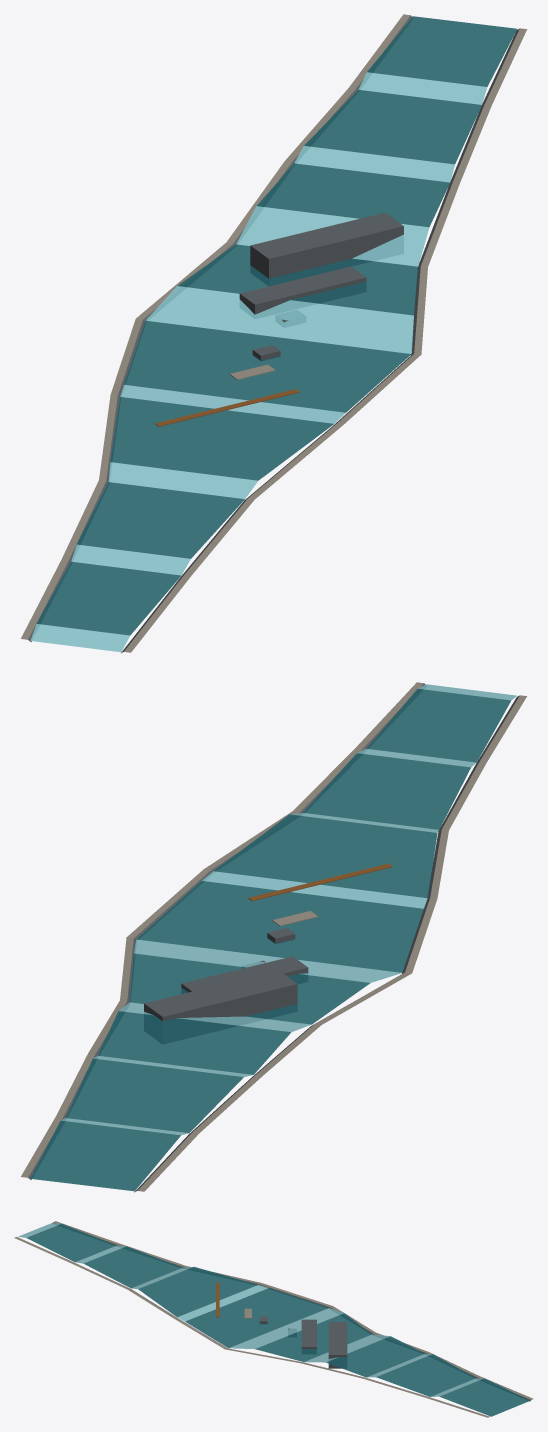
Rendered from water_thac_lien_khuong_duc_trong.glb.
3 renders of one model, top to bottom at view 1: azimuth 30°, elevation 25°; view 2: azimuth 210°, elevation 25°; view 3: azimuth 270°, elevation 25°, orthographic. The views are drawn at different scales.
Parts seen in each view (by area): view 1: water_terraces_water_thac_lien_khuong_duc_trong, waterfall_curtain_water_thac_lien_khuong_duc_trong, canyon_walkway_water_thac_lien_khuong_duc_trong, lien_khuong_wide_basalt_waterfall_cliff, basalt_canyon_embankments_water_thac_lien_khuong_duc_trong, lien_khuong_middle_stepped_basalt_ledge; view 2: water_terraces_water_thac_lien_khuong_duc_trong, waterfall_curtain_water_thac_lien_khuong_duc_trong, canyon_walkway_water_thac_lien_khuong_duc_trong, lien_khuong_wide_basalt_waterfall_cliff, basalt_canyon_embankments_water_thac_lien_khuong_duc_trong, lien_khuong_middle_stepped_basalt_ledge, lien_khuong_canyon_suspension_footbridge; view 3: water_terraces_water_thac_lien_khuong_duc_trong, waterfall_curtain_water_thac_lien_khuong_duc_trong, canyon_walkway_water_thac_lien_khuong_duc_trong, lien_khuong_wide_basalt_waterfall_cliff, lien_khuong_middle_stepped_basalt_ledge, basalt_canyon_embankments_water_thac_lien_khuong_duc_trong.
Boxes of the visible parts, x1,y1,x2,y2 form: water_terraces_water_thac_lien_khuong_duc_trong: (36,16,517,635); waterfall_curtain_water_thac_lien_khuong_duc_trong: (30,72,487,652); canyon_walkway_water_thac_lien_khuong_duc_trong: (21,14,527,652); lien_khuong_wide_basalt_waterfall_cliff: (250,212,403,278); basalt_canyon_embankments_water_thac_lien_khuong_duc_trong: (28,15,519,652); lien_khuong_middle_stepped_basalt_ledge: (239,266,366,314); water_terraces_water_thac_lien_khuong_duc_trong: (30,688,511,1191); waterfall_curtain_water_thac_lien_khuong_duc_trong: (61,684,516,1135); canyon_walkway_water_thac_lien_khuong_duc_trong: (21,682,526,1191); lien_khuong_wide_basalt_waterfall_cliff: (144,970,297,1021); basalt_canyon_embankments_water_thac_lien_khuong_duc_trong: (28,683,519,1192); lien_khuong_middle_stepped_basalt_ledge: (181,956,308,992); lien_khuong_canyon_suspension_footbridge: (248,863,392,901); water_terraces_water_thac_lien_khuong_duc_trong: (27,1224,529,1416); waterfall_curtain_water_thac_lien_khuong_duc_trong: (18,1223,483,1396); canyon_walkway_water_thac_lien_khuong_duc_trong: (14,1221,533,1417); lien_khuong_wide_basalt_waterfall_cliff: (328,1322,347,1368); lien_khuong_middle_stepped_basalt_ledge: (301,1319,316,1348); basalt_canyon_embankments_water_thac_lien_khuong_duc_trong: (53,1222,530,1401).
Size of the model in its own units: 640 by 43.45 by 614.
